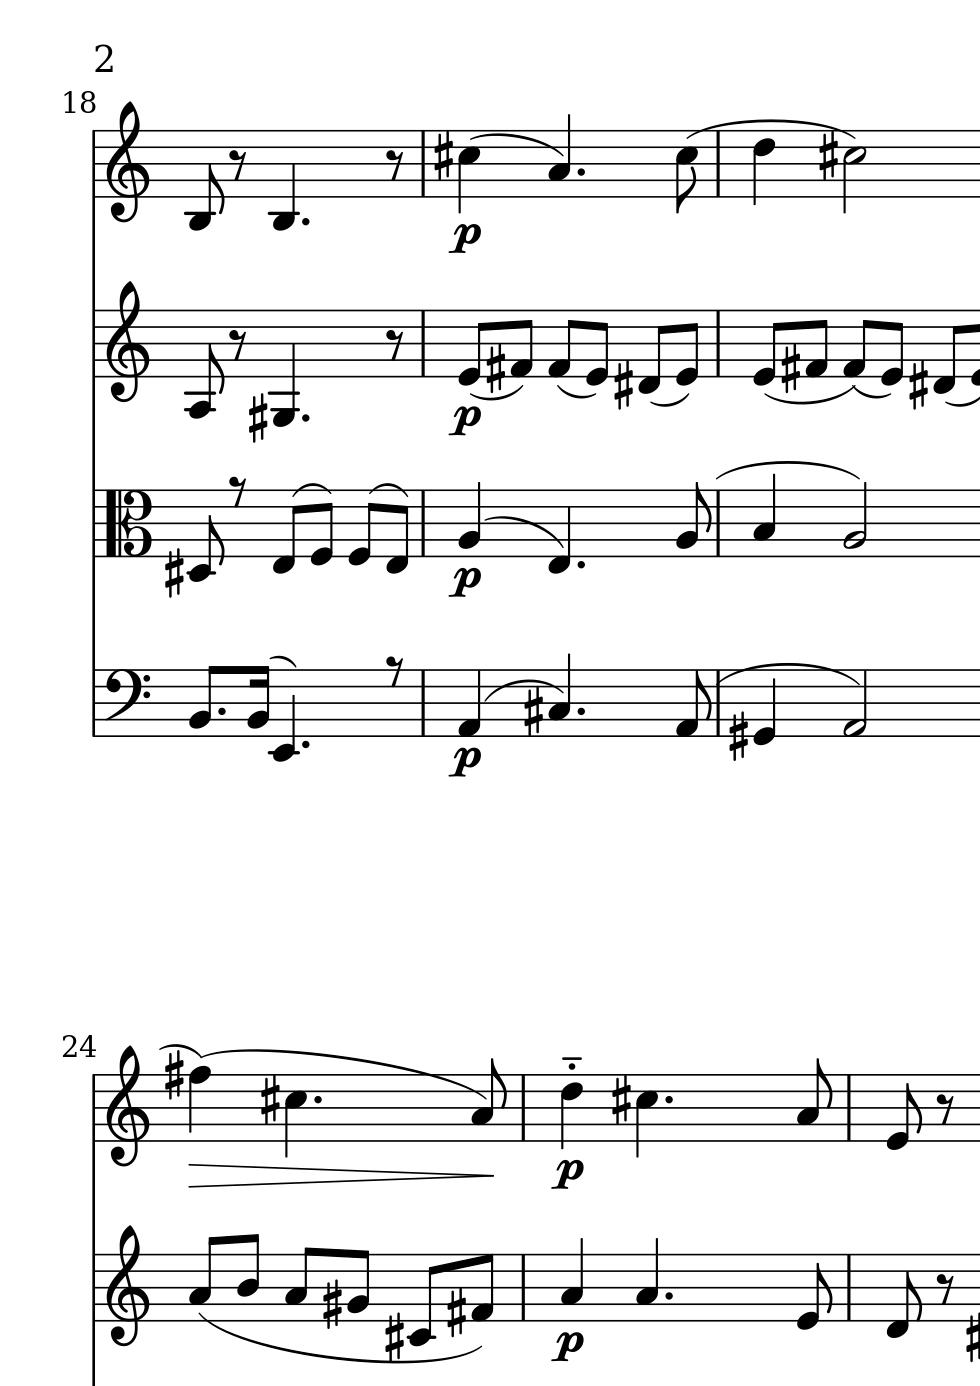1: (63, 89, 76, 116)
16_2: (245, 664, 269, 737)
2: (92, 43, 113, 73), (60, 1033, 78, 1062)
2_1: (843, 667, 868, 738)
2_2: (841, 480, 868, 558)
2_5: (840, 129, 867, 215)
4: (78, 1034, 97, 1062)
4_-1: (544, 487, 572, 576)
4_-2: (269, 667, 297, 764)
4_-3: (267, 128, 298, 233)
4_-5: (269, 308, 300, 428)
4_0: (751, 670, 776, 748)
4_2: (456, 481, 483, 558)
4_3: (559, 1236, 585, 1322), (751, 474, 777, 559), (634, 1236, 660, 1323), (547, 653, 572, 737), (547, 115, 571, 198)
4_5: (633, 1072, 659, 1160), (456, 128, 482, 215), (282, 1072, 308, 1159)
4_6: (558, 1074, 583, 1151), (751, 130, 775, 208)
8: (78, 88, 97, 116)
8_-1: (883, 1252, 922, 1341), (269, 489, 302, 576), (931, 308, 962, 397), (637, 308, 668, 396), (384, 491, 410, 577)
8_-2: (187, 487, 227, 582), (406, 1252, 441, 1347)
8_-3: (183, 130, 226, 234)
8_-4: (183, 308, 225, 421)
8_0: (883, 1073, 921, 1153), (795, 1253, 833, 1332), (456, 308, 488, 389), (751, 308, 783, 389), (346, 489, 377, 568), (675, 308, 701, 389), (880, 308, 905, 391), (585, 308, 610, 389), (309, 492, 334, 569)
8_1: (673, 668, 712, 739), (841, 308, 872, 380), (546, 308, 577, 379), (455, 668, 482, 738), (470, 1252, 495, 1324), (509, 308, 535, 379), (804, 308, 829, 379)
8_2: (673, 481, 711, 558), (186, 665, 218, 738), (345, 1248, 370, 1322)
8_3: (795, 1056, 832, 1143), (471, 1056, 506, 1143), (186, 1234, 218, 1323), (283, 1246, 316, 1323)
8_4: (235, 1232, 260, 1323)
8_5: (673, 129, 698, 214)
8_8: (187, 1064, 210, 1145)
Cclef: (104, 487, 153, 557)
Diminuendo_hairpin: (183, 1163, 498, 1191)
Fclef: (102, 667, 151, 738)
Gclef: (103, 1224, 151, 1348), (103, 1045, 150, 1168), (104, 280, 148, 402), (105, 99, 148, 223)
Rests8: (227, 147, 248, 183), (384, 148, 405, 182), (227, 326, 248, 359), (227, 474, 248, 508), (934, 1271, 955, 1306), (935, 1091, 955, 1127), (384, 328, 404, 362), (384, 655, 403, 687)
Sharp: (257, 1074, 281, 1127), (521, 685, 544, 739), (816, 130, 838, 185), (610, 1073, 632, 1126), (431, 130, 453, 182), (246, 393, 268, 445), (382, 1312, 404, 1364), (444, 1286, 467, 1338), (727, 709, 748, 762), (484, 343, 505, 394), (613, 358, 634, 410), (778, 343, 800, 394), (162, 1050, 183, 1102), (908, 357, 928, 410), (163, 548, 183, 599), (321, 1280, 342, 1331), (963, 1311, 979, 1362)
Single_barline: (710, 310, 727, 378), (85, 490, 102, 557), (414, 131, 431, 196), (708, 133, 725, 196), (414, 311, 430, 376), (710, 491, 725, 556), (415, 671, 431, 736), (840, 1075, 856, 1139), (86, 310, 101, 378), (86, 1074, 101, 1142), (86, 1255, 101, 1322), (86, 131, 101, 198), (87, 670, 102, 737), (711, 670, 725, 736), (415, 491, 430, 556), (515, 1075, 530, 1140), (840, 1255, 855, 1319), (517, 1255, 530, 1321)
Slur: (197, 1311, 482, 1361), (208, 1048, 486, 1098), (682, 119, 856, 138), (716, 661, 860, 683), (484, 514, 565, 549), (471, 131, 566, 160), (718, 462, 864, 480), (483, 680, 561, 703), (764, 387, 854, 405), (468, 384, 525, 401), (555, 382, 596, 399), (157, 1043, 202, 1058), (649, 391, 689, 407), (291, 483, 330, 498), (369, 483, 410, 497), (853, 385, 891, 399), (944, 396, 980, 408), (268, 656, 298, 669)
dot: (299, 410, 312, 425), (311, 1092, 323, 1107), (574, 165, 587, 179), (662, 1092, 675, 1106), (662, 1288, 673, 1303), (574, 705, 587, 718), (299, 738, 311, 752), (575, 558, 587, 571), (215, 705, 227, 718), (300, 215, 311, 229)
p: (447, 745, 482, 783), (549, 1330, 584, 1367), (550, 1157, 585, 1193), (447, 222, 482, 257), (447, 403, 482, 438), (447, 566, 482, 601)
